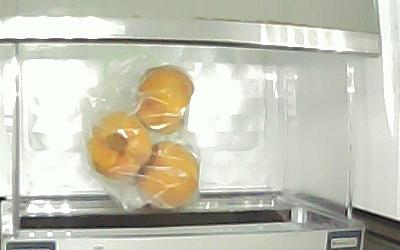peach_vinyl: (87, 113, 152, 179), (134, 141, 198, 208), (137, 66, 195, 137)
